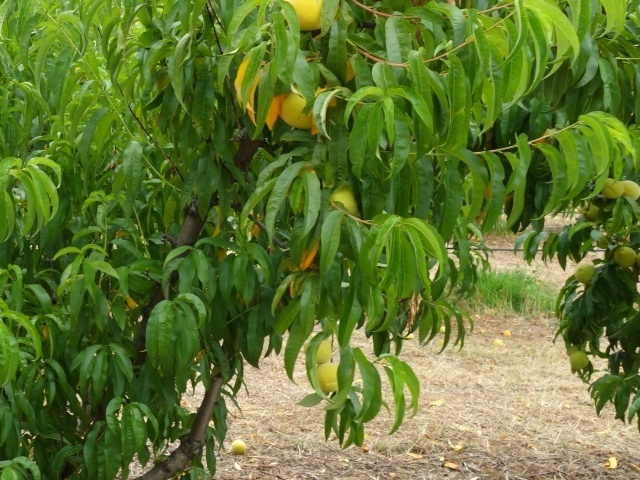peach: (277, 80, 318, 138), (278, 1, 333, 36), (306, 357, 343, 393), (305, 332, 335, 366), (610, 243, 637, 271), (600, 173, 626, 200), (574, 260, 597, 286), (620, 176, 640, 205), (568, 348, 591, 373)
